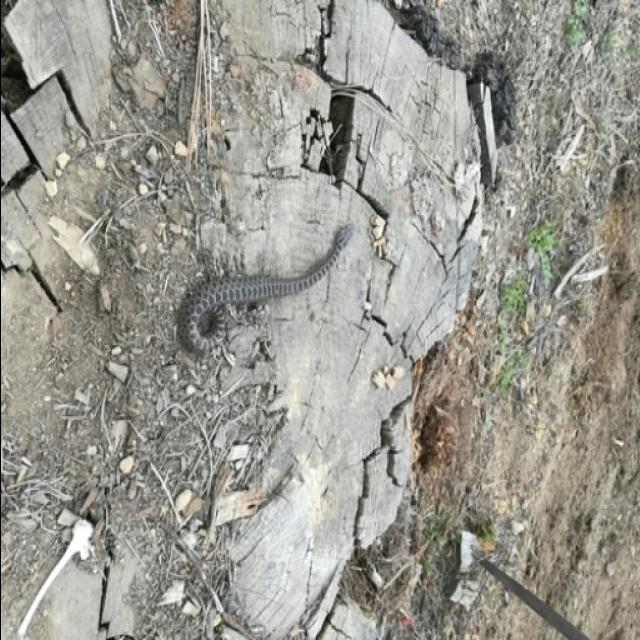snake: (154, 216, 376, 362)
